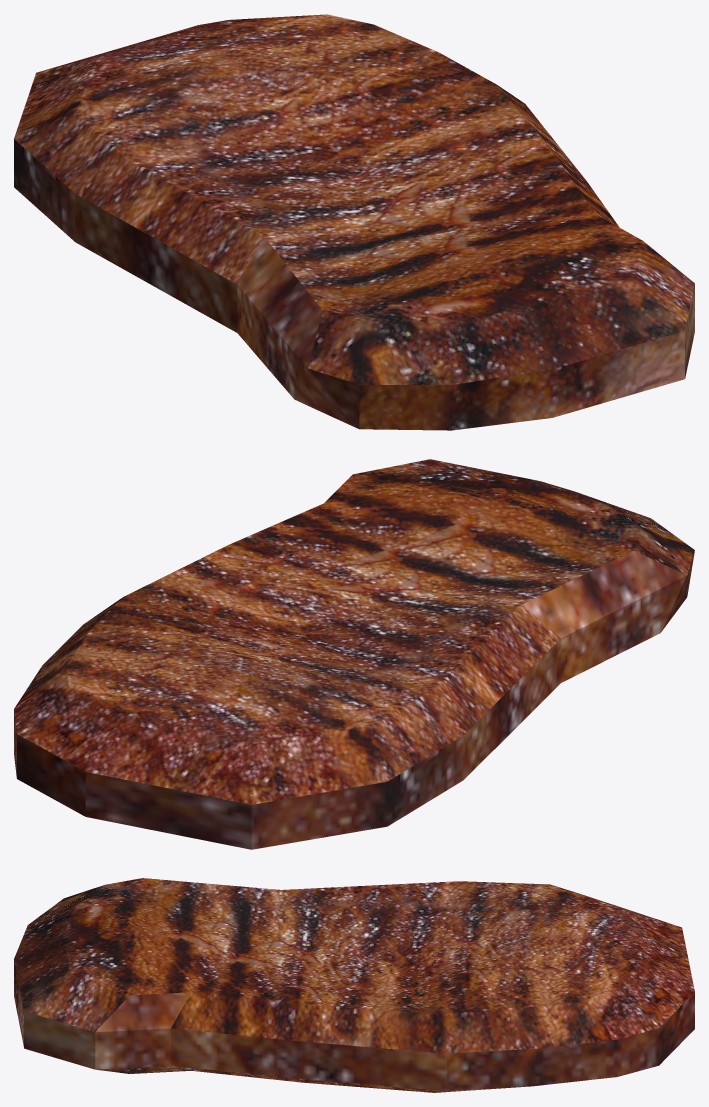
Rendered from cookedBeef.obj.
3 views of the same model, one above another, from view 1: azimuth 30°, elevation 25°; view 2: azimuth 150°, elevation 25°; view 3: azimuth 270°, elevation 25° (orthographic). The views are drawn at different scales.
Visible parts, largest first — view 1: cookedBeef; view 2: cookedBeef; view 3: cookedBeef.
Boxes of the visible parts, x1,y1,x2,y2 form: cookedBeef: [14, 14, 694, 430]; cookedBeef: [14, 459, 694, 849]; cookedBeef: [14, 878, 694, 1092].
Size of the model in its own units: 15.64 by 4.37 by 27.54.
Materials: 1 (1 with a texture image).
